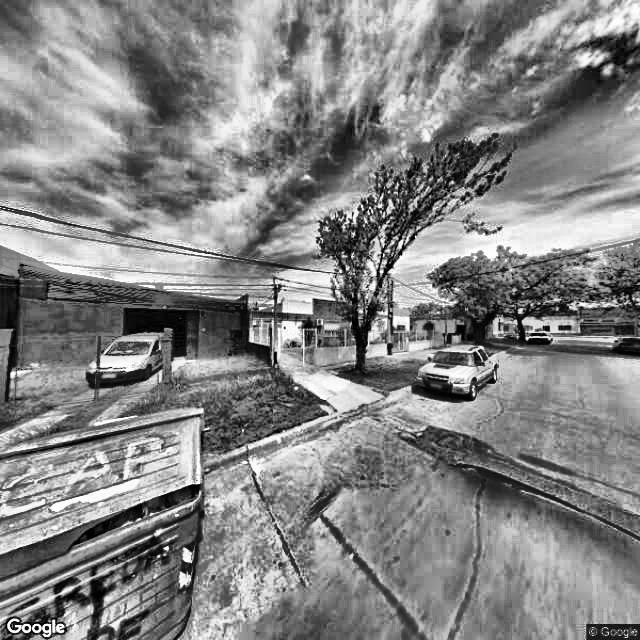Dustbin: (1, 398, 218, 640)
